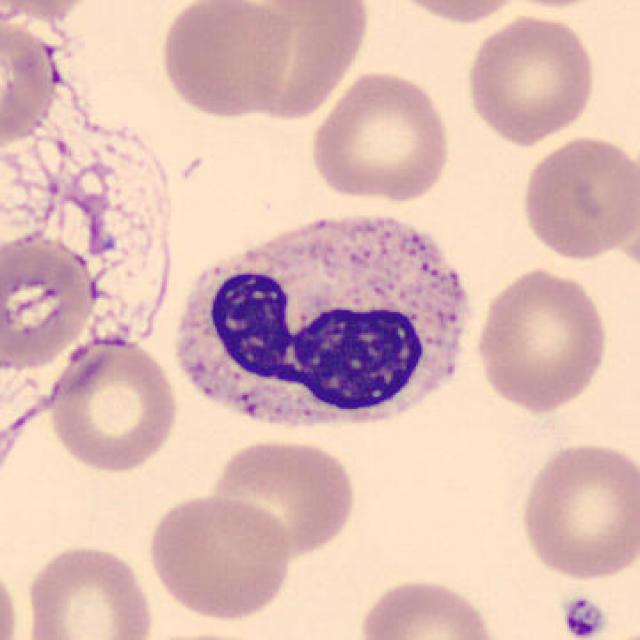Neutrophil: (164, 201, 482, 446)
Platelets: (558, 594, 610, 640)
RBC: (471, 263, 612, 414), (306, 67, 453, 206), (144, 490, 293, 624), (45, 335, 182, 474), (208, 434, 359, 560), (219, 0, 373, 122), (462, 10, 599, 146), (516, 436, 638, 584), (155, 0, 297, 122), (518, 133, 638, 264), (19, 539, 158, 640), (0, 231, 98, 374), (356, 573, 503, 640), (0, 127, 71, 247), (0, 13, 60, 153), (382, 0, 529, 26), (126, 626, 279, 640), (0, 0, 100, 21), (0, 555, 23, 640), (483, 0, 620, 12)
